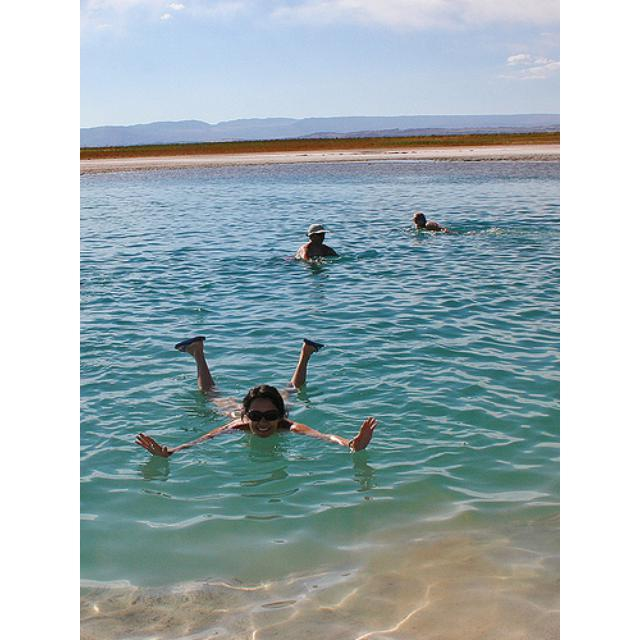human: (134, 328, 375, 484), (296, 220, 340, 278), (409, 209, 451, 238)
